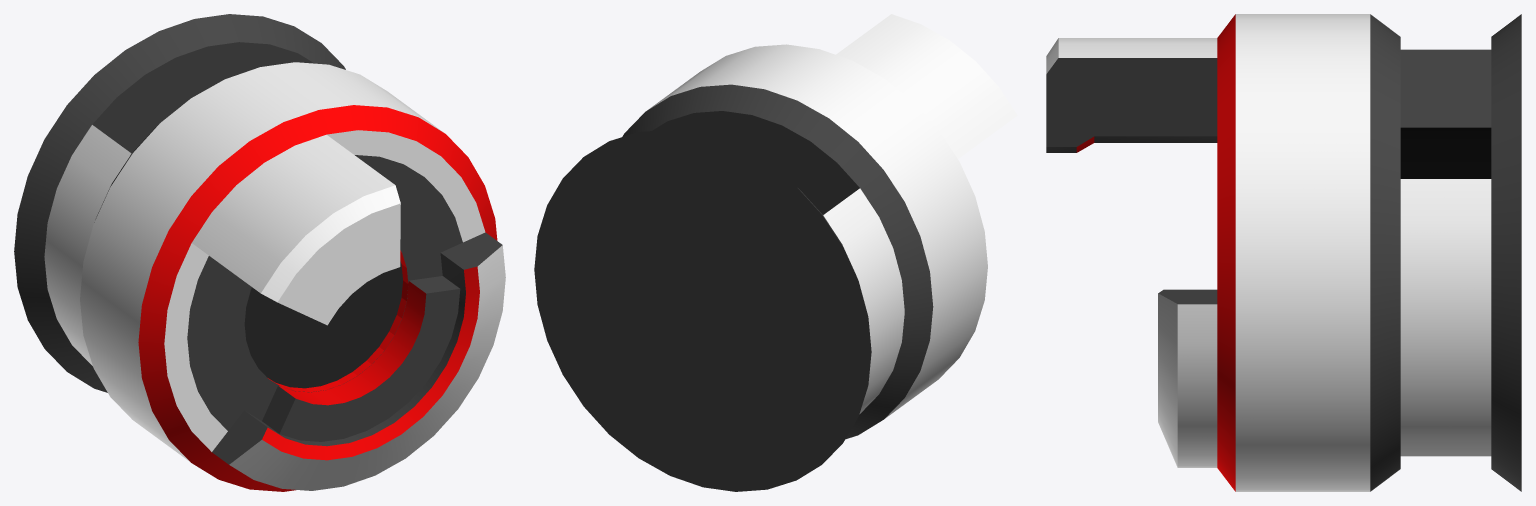
The model's file is planeFactory.obj.
3 views of the same model, side by side, from view 1: azimuth 30°, elevation 25°; view 2: azimuth 150°, elevation 25°; view 3: azimuth 270°, elevation 25° (orthographic). The views are drawn at different scales.
Visible parts, largest first — view 1: Tube001; view 2: Tube001; view 3: Tube001.
Boxes of the visible parts, box(x1,y1,x2,y2) form: Tube001: box(14, 14, 505, 491); Tube001: box(534, 14, 1017, 491); Tube001: box(1046, 14, 1521, 491).
Size of the model in its own units: 1.58 by 1.58 by 1.57.
